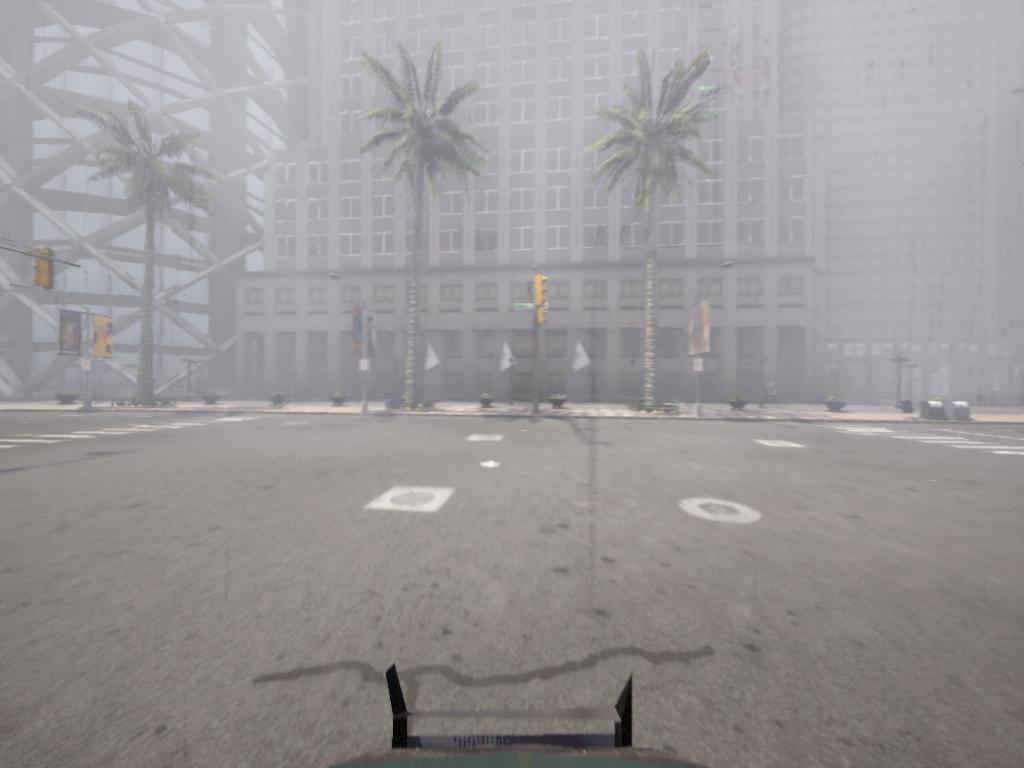traffic_light: (35, 248, 54, 289), (534, 276, 546, 306), (537, 302, 547, 325)
